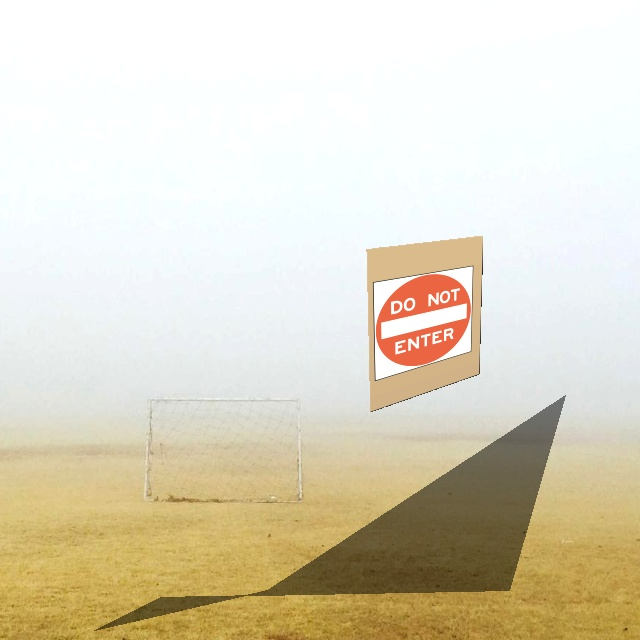DO_NOT_ENTER: (372, 266, 474, 381)
